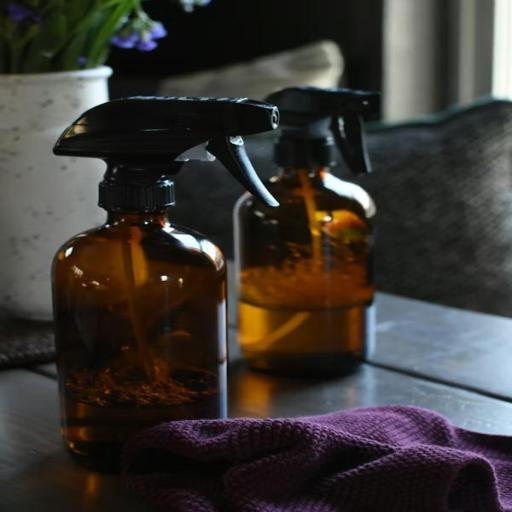bottle: (47, 86, 287, 464), (220, 78, 400, 390)
